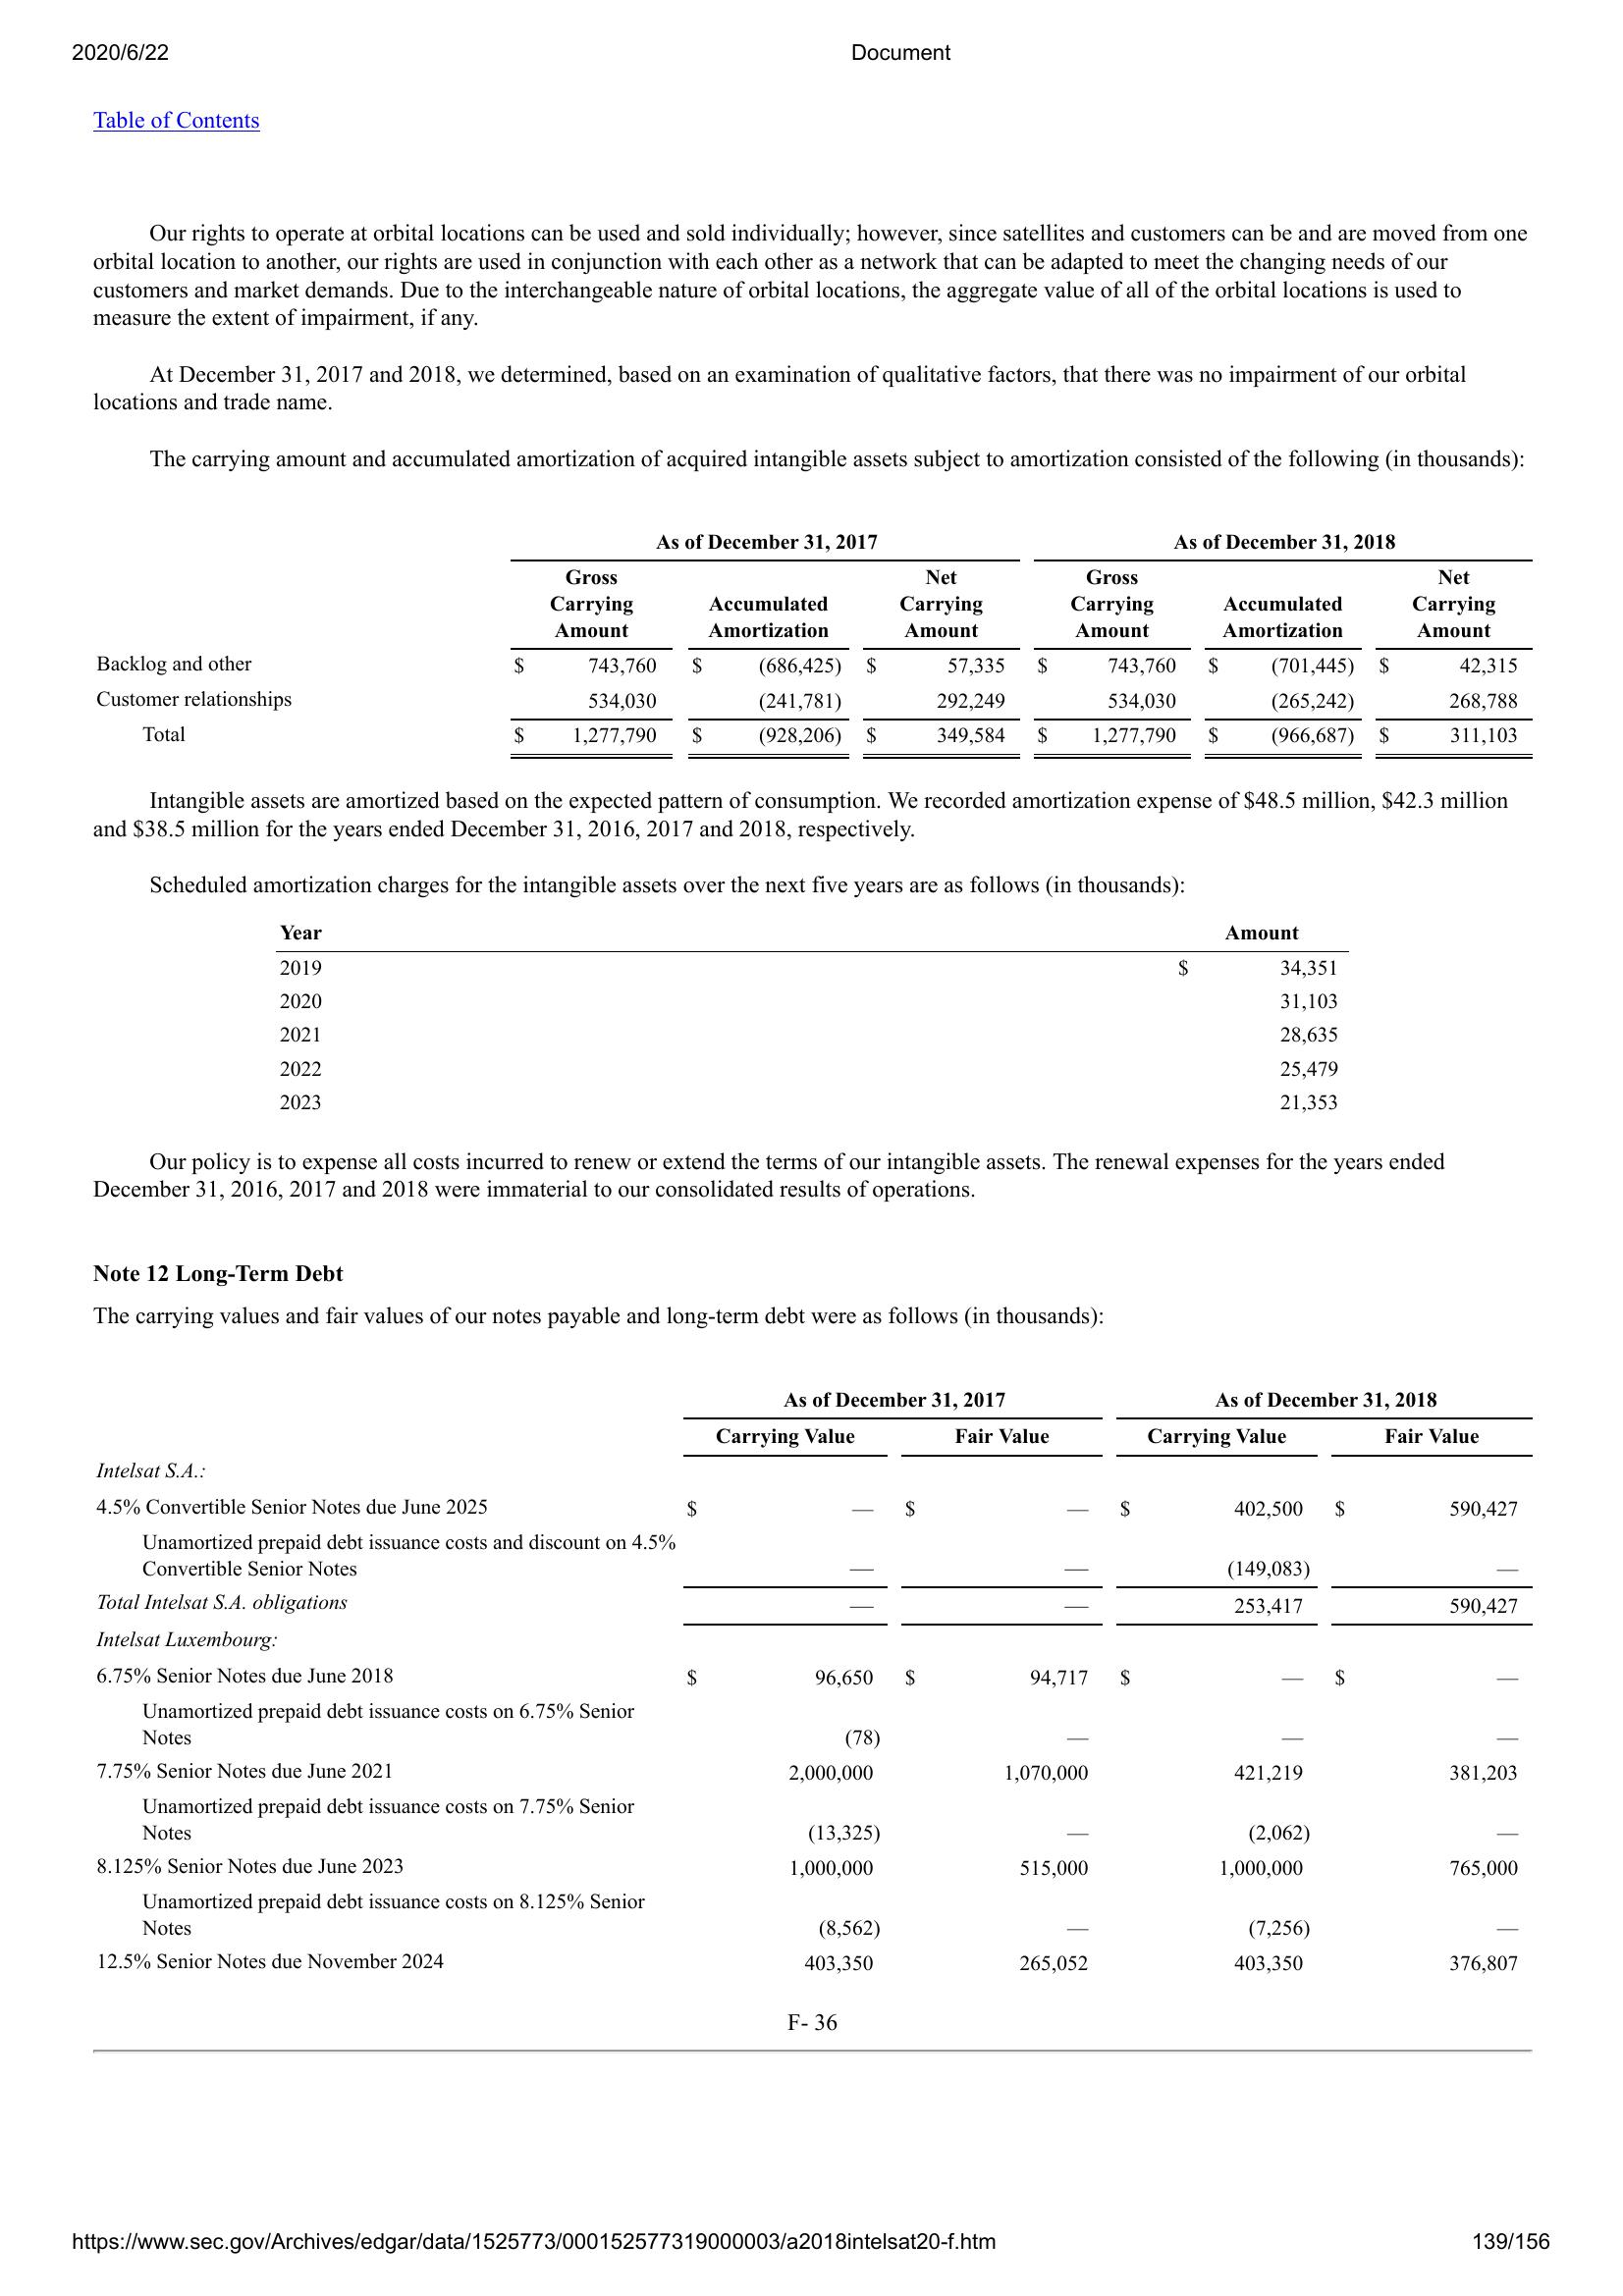table: (65, 1369, 1532, 1982), (91, 525, 1542, 769)
